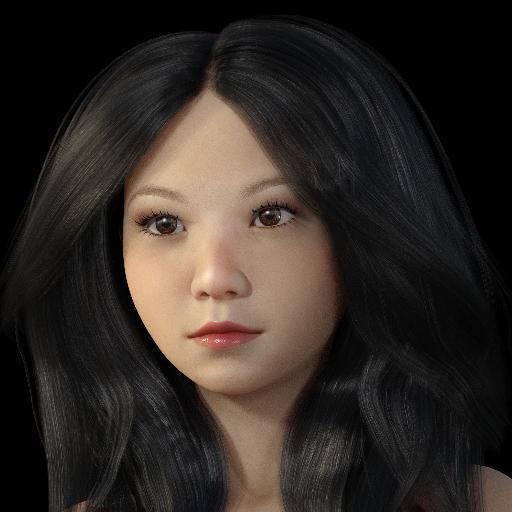left_eye: (244, 204, 302, 233)
left_lip_corner: (251, 317, 279, 347)
right_eye: (134, 209, 186, 237)
right_lip_corner: (180, 320, 200, 357)
